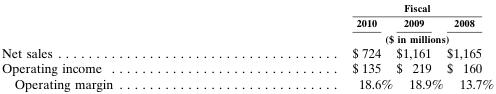table: (0, 1, 493, 90)
table column: (0, 1, 231, 90), (231, 1, 393, 90), (393, 1, 444, 90), (444, 1, 493, 90)
table column header: (0, 1, 493, 44)
table row: (0, 44, 493, 60), (0, 15, 493, 30), (0, 60, 493, 75), (0, 75, 493, 90), (0, 1, 493, 15), (0, 30, 493, 44)
table spanning cell: (231, 1, 493, 15), (231, 30, 493, 44)
